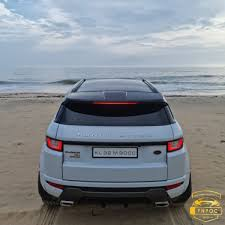Number plates: (89, 145, 139, 158)
